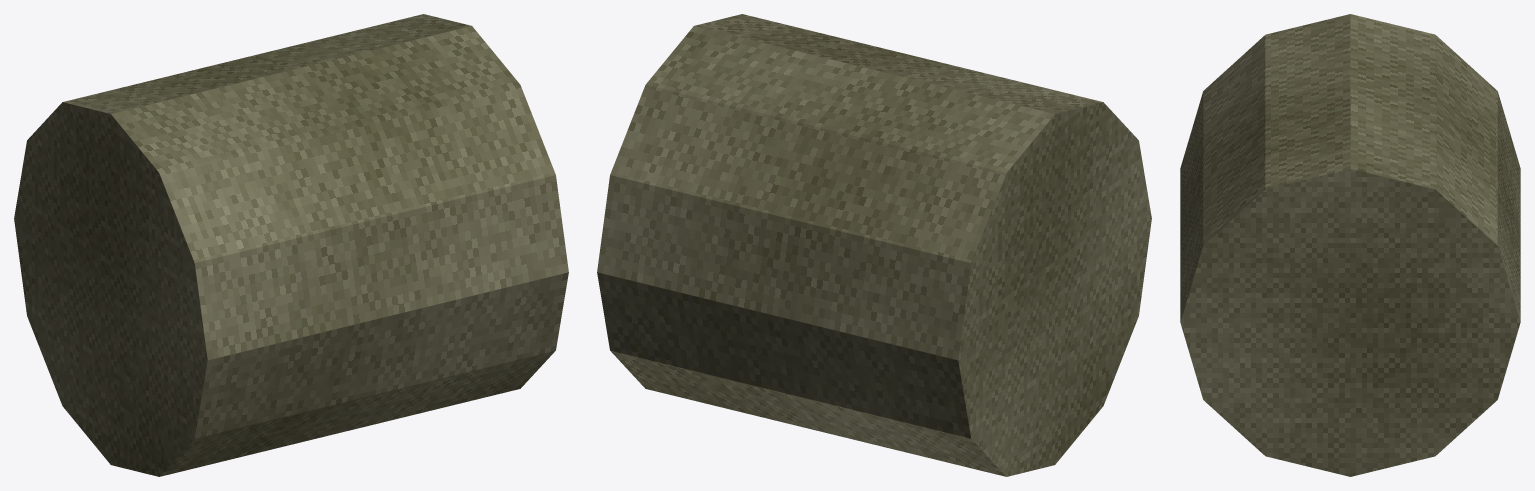
File: bandagem.glb
The picture shows the model from 3 angles, left to right: view 1: azimuth 30°, elevation 25°; view 2: azimuth 150°, elevation 25°; view 3: azimuth 270°, elevation 25°; orthographic projection. The views are drawn at different scales.
Visible parts, largest first — view 1: bandagem_mesh; view 2: bandagem_mesh; view 3: bandagem_mesh.
Part boxes in pixels (x1,y1,x2,y2): bandagem_mesh: [14, 14, 568, 476]; bandagem_mesh: [597, 14, 1151, 476]; bandagem_mesh: [1180, 14, 1520, 476].
Size of the model in its own units: 0.14 by 0.13 by 0.13.
Materials: 1 (1 with a texture image).
